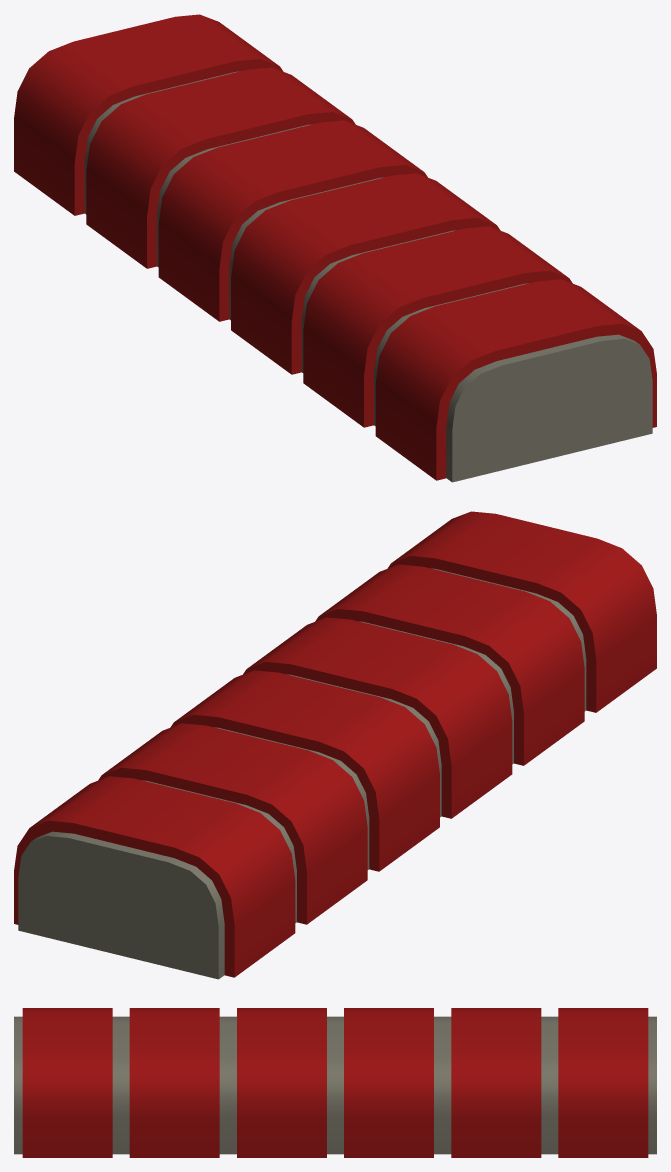
File: Edge_Brick_straight_75.fbx
The picture shows the model from 3 angles, top to bottom: view 1: azimuth 30°, elevation 25°; view 2: azimuth 150°, elevation 25°; view 3: azimuth 270°, elevation 25°; orthographic projection. The views are drawn at different scales.
Parts seen in each view (by area): view 1: Edge_Brick_straight_75; view 2: Edge_Brick_straight_75; view 3: Edge_Brick_straight_75.
Part boxes in pixels (bbox=[...]): Edge_Brick_straight_75: bbox=[14, 14, 656, 482]; Edge_Brick_straight_75: bbox=[14, 511, 656, 979]; Edge_Brick_straight_75: bbox=[14, 1008, 656, 1157].
Bounding box in the file's own units: 22 × 11 × 75.
